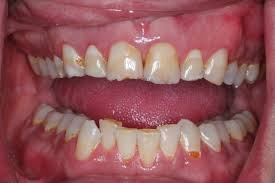normal: (74, 122, 98, 158), (199, 122, 221, 153), (223, 117, 244, 139), (233, 62, 247, 87), (239, 114, 255, 133), (217, 120, 230, 143), (52, 55, 64, 79), (223, 61, 234, 84), (36, 56, 47, 77), (29, 54, 39, 76), (247, 63, 258, 83), (46, 57, 55, 78)
rough: (106, 44, 143, 82), (61, 43, 84, 78), (100, 117, 118, 151)
yellow: (142, 44, 179, 85), (136, 128, 159, 169), (179, 119, 201, 158), (159, 126, 182, 161), (205, 47, 225, 87), (116, 127, 136, 165), (179, 51, 203, 82), (84, 45, 106, 78), (64, 114, 87, 144), (31, 103, 51, 126), (54, 110, 70, 134), (45, 114, 59, 131)
